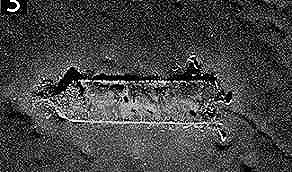ship: (45, 74, 232, 131)
